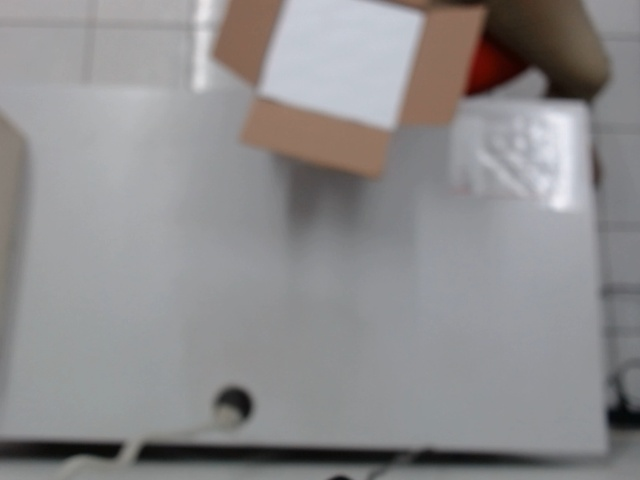divisor: (252, 0, 426, 135)
